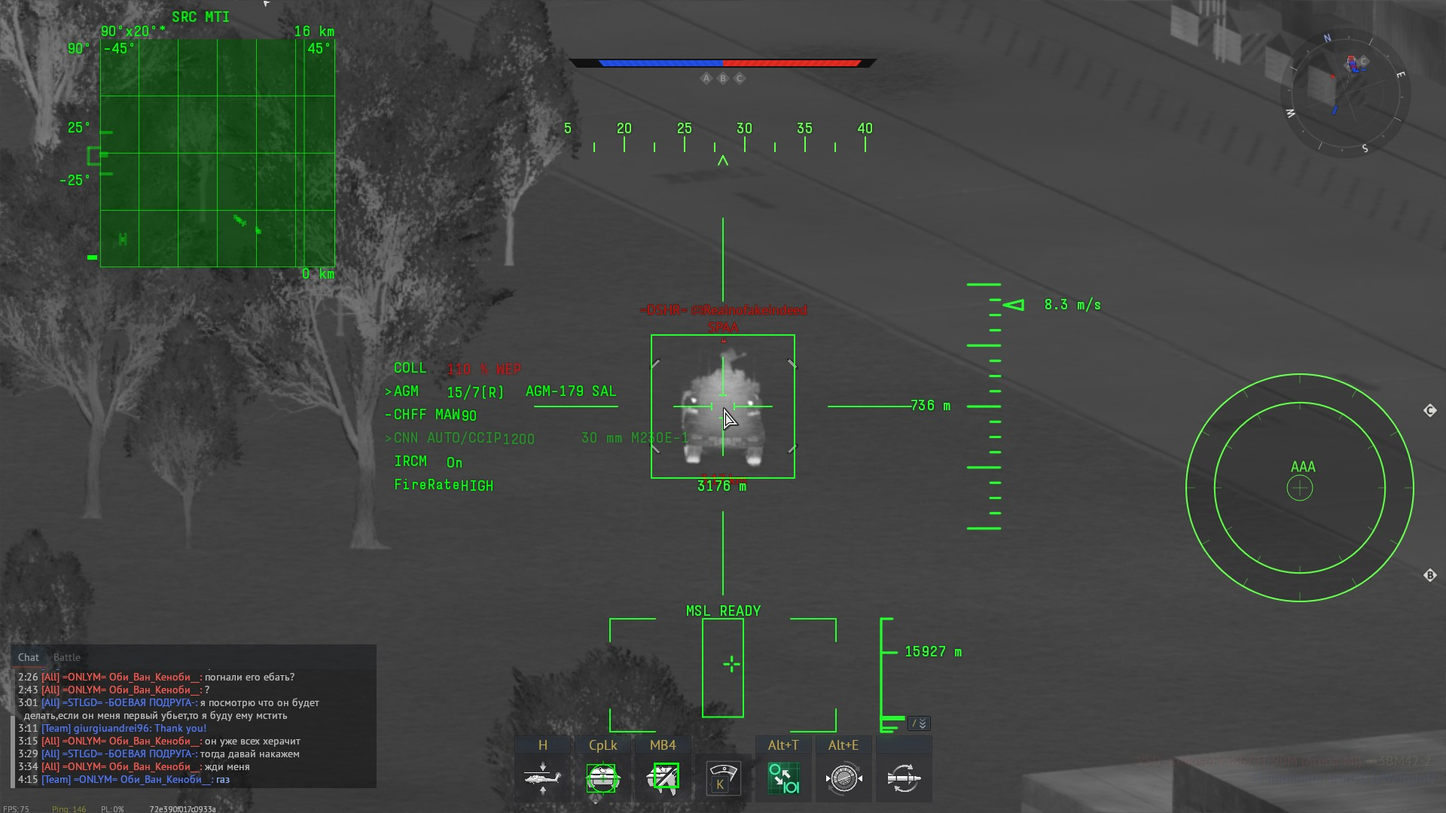spaa_gepard: (680, 349, 770, 466)
